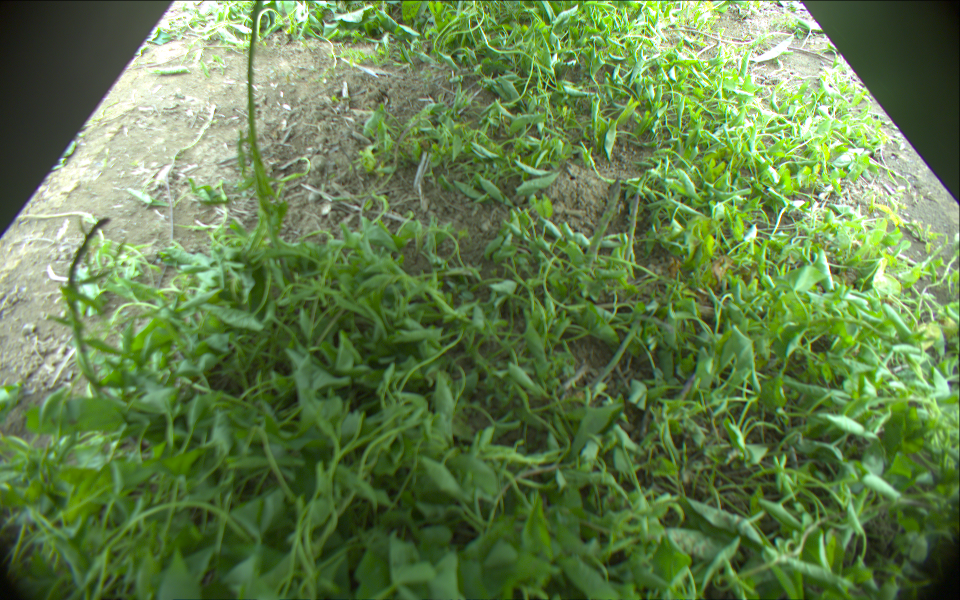aspa: (242, 1, 279, 245), (67, 218, 111, 393), (585, 311, 647, 390), (581, 176, 621, 266), (624, 192, 644, 266)
